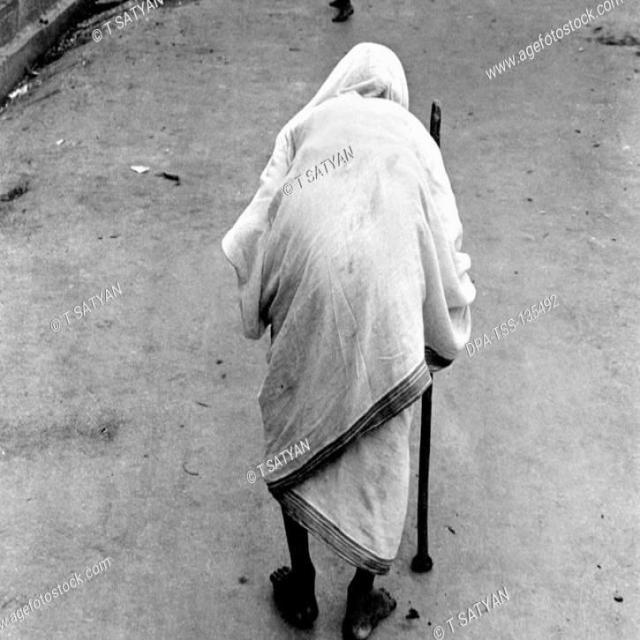idoso em pe: (232, 37, 473, 640)
